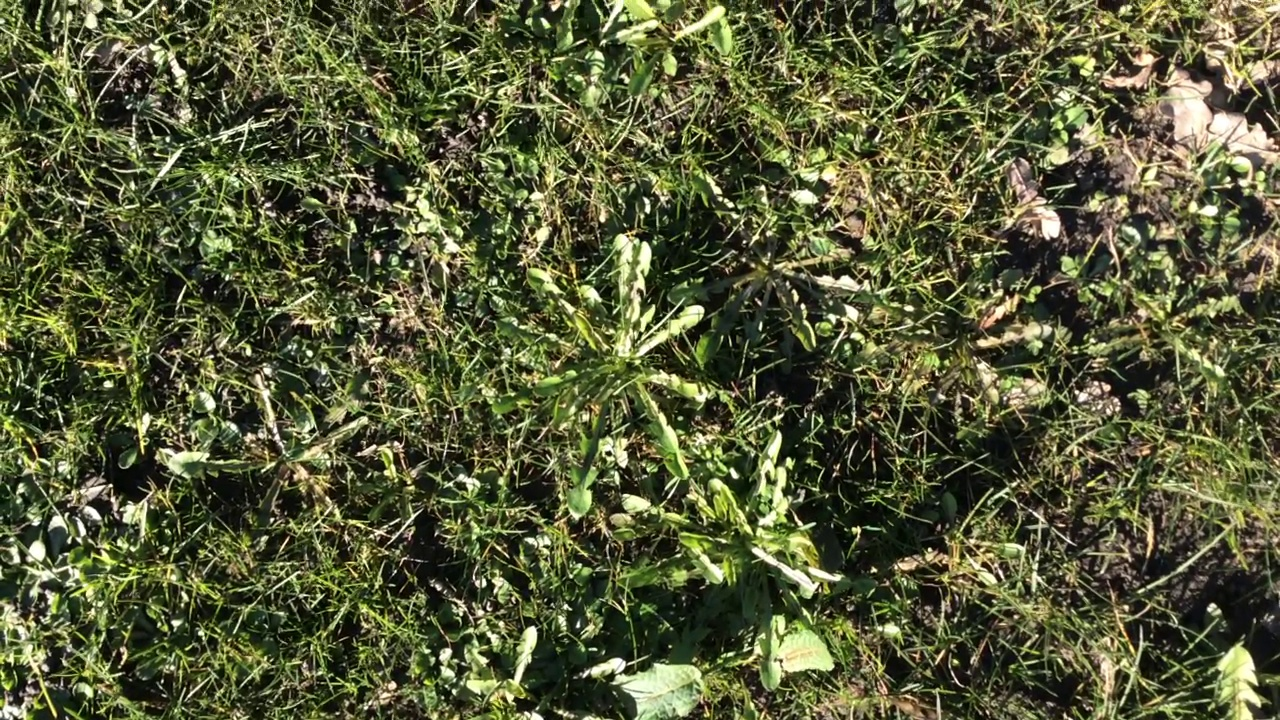rumex: (588, 664, 705, 720), (759, 631, 834, 675)
